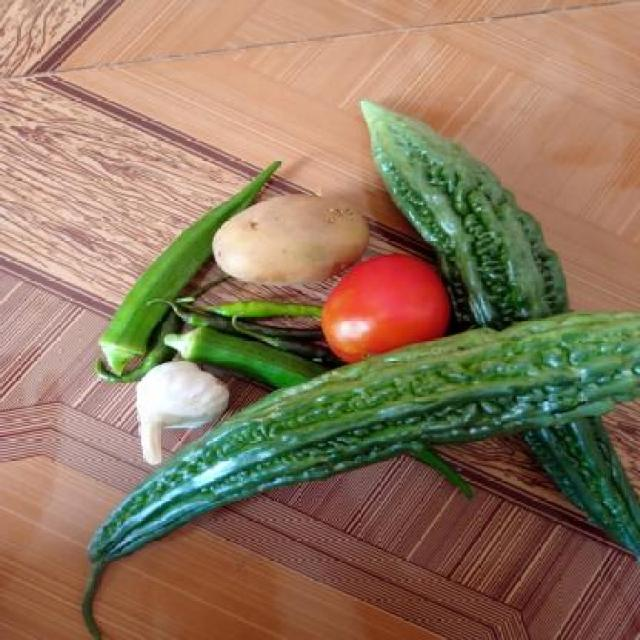Bitter melon: (380, 106, 638, 328), (297, 317, 640, 440), (503, 331, 640, 538)
Garlic: (118, 356, 231, 470)
Green Chili: (202, 304, 340, 356)
Lady finger: (78, 234, 211, 363)
Potato: (208, 193, 369, 284)
Tomato: (322, 257, 438, 366)
